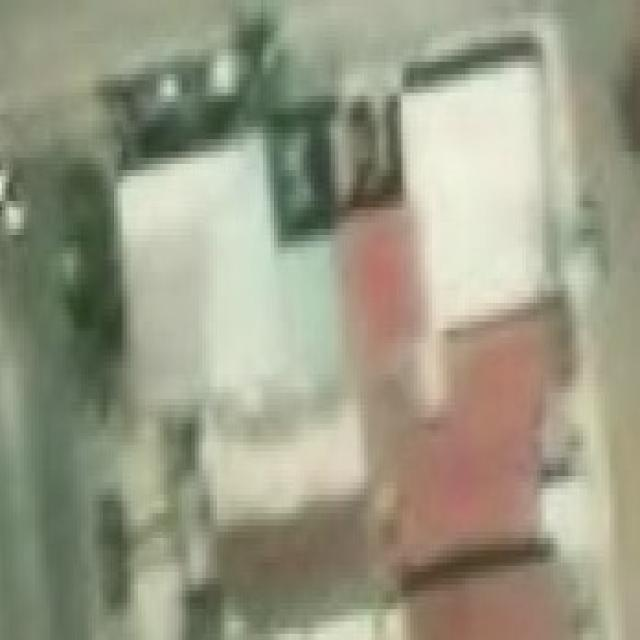Batiment: (398, 324, 544, 566), (406, 561, 575, 639), (344, 208, 412, 394)
